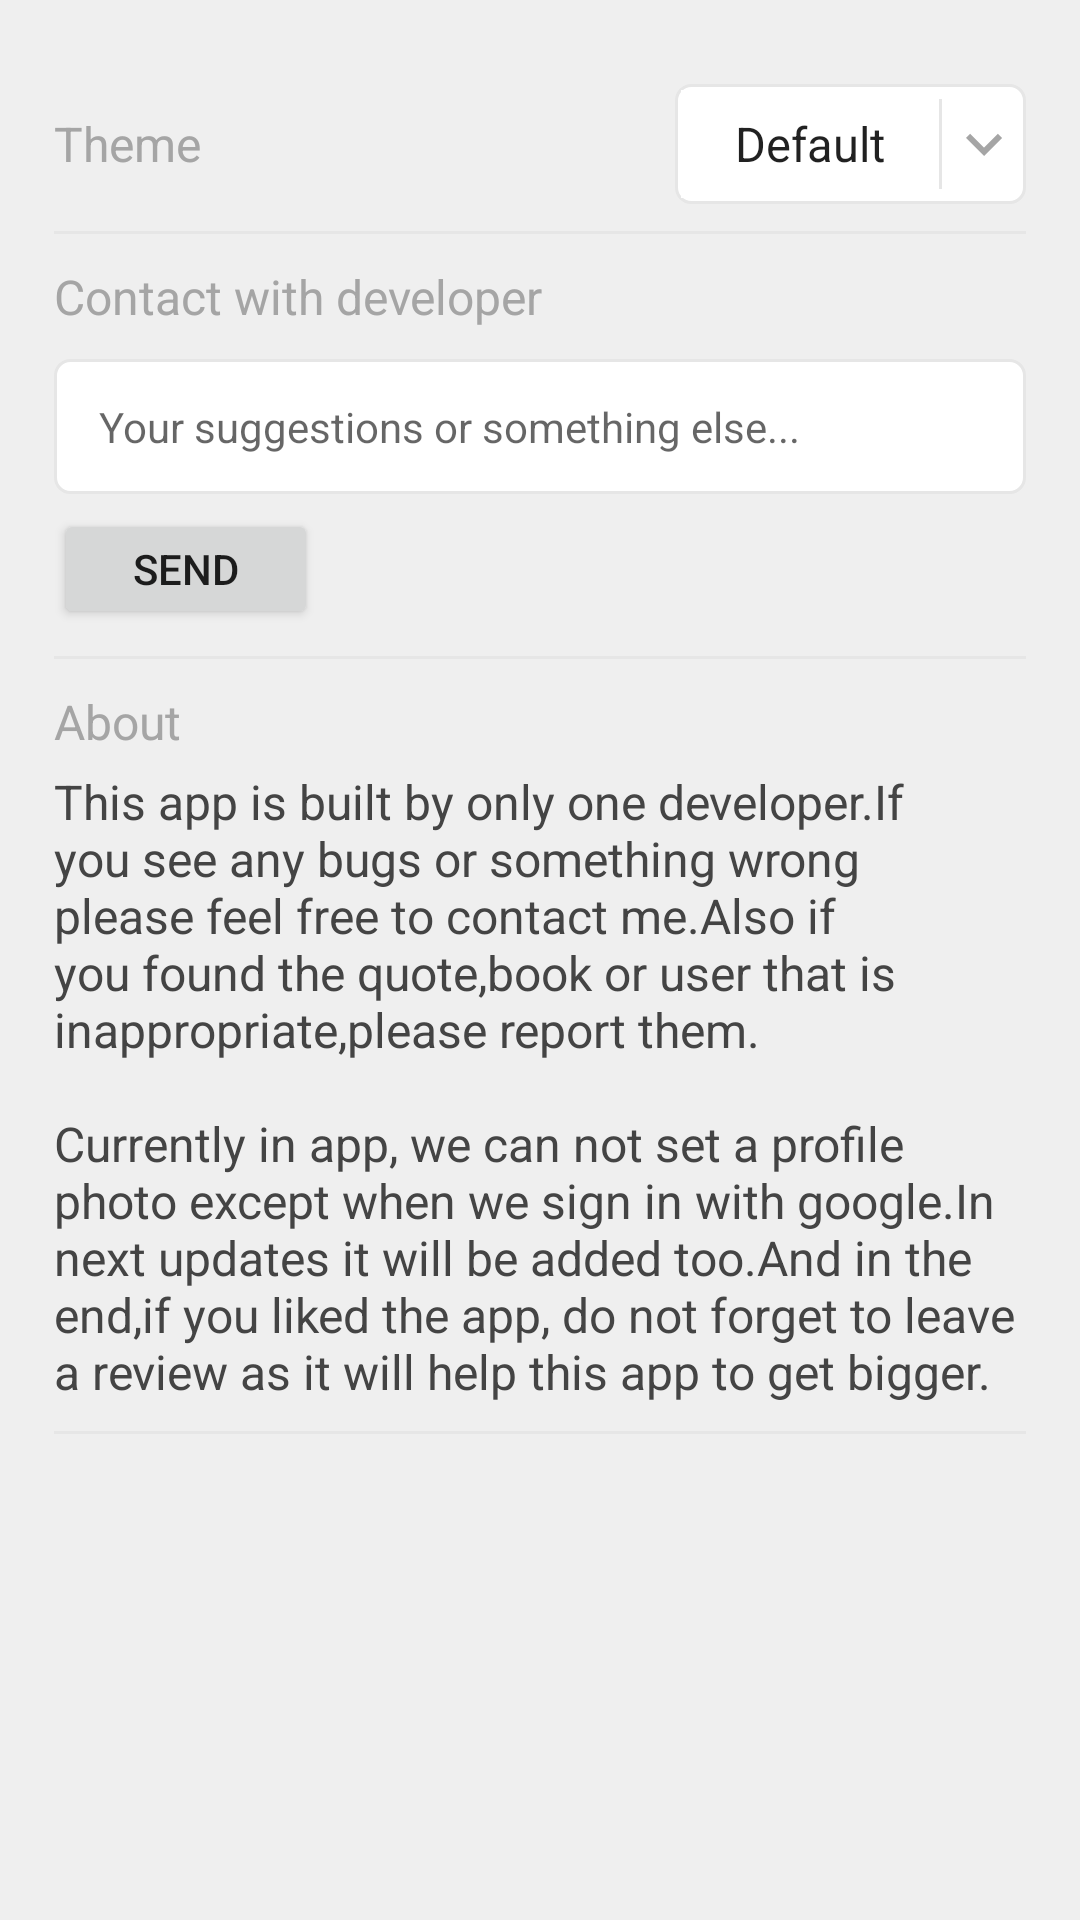

Icon bounding boxes for this 1080px x 1920px phone screenshot, format box=[x1, y1, x2, y2]:
down: box=[966, 134, 1002, 156]
